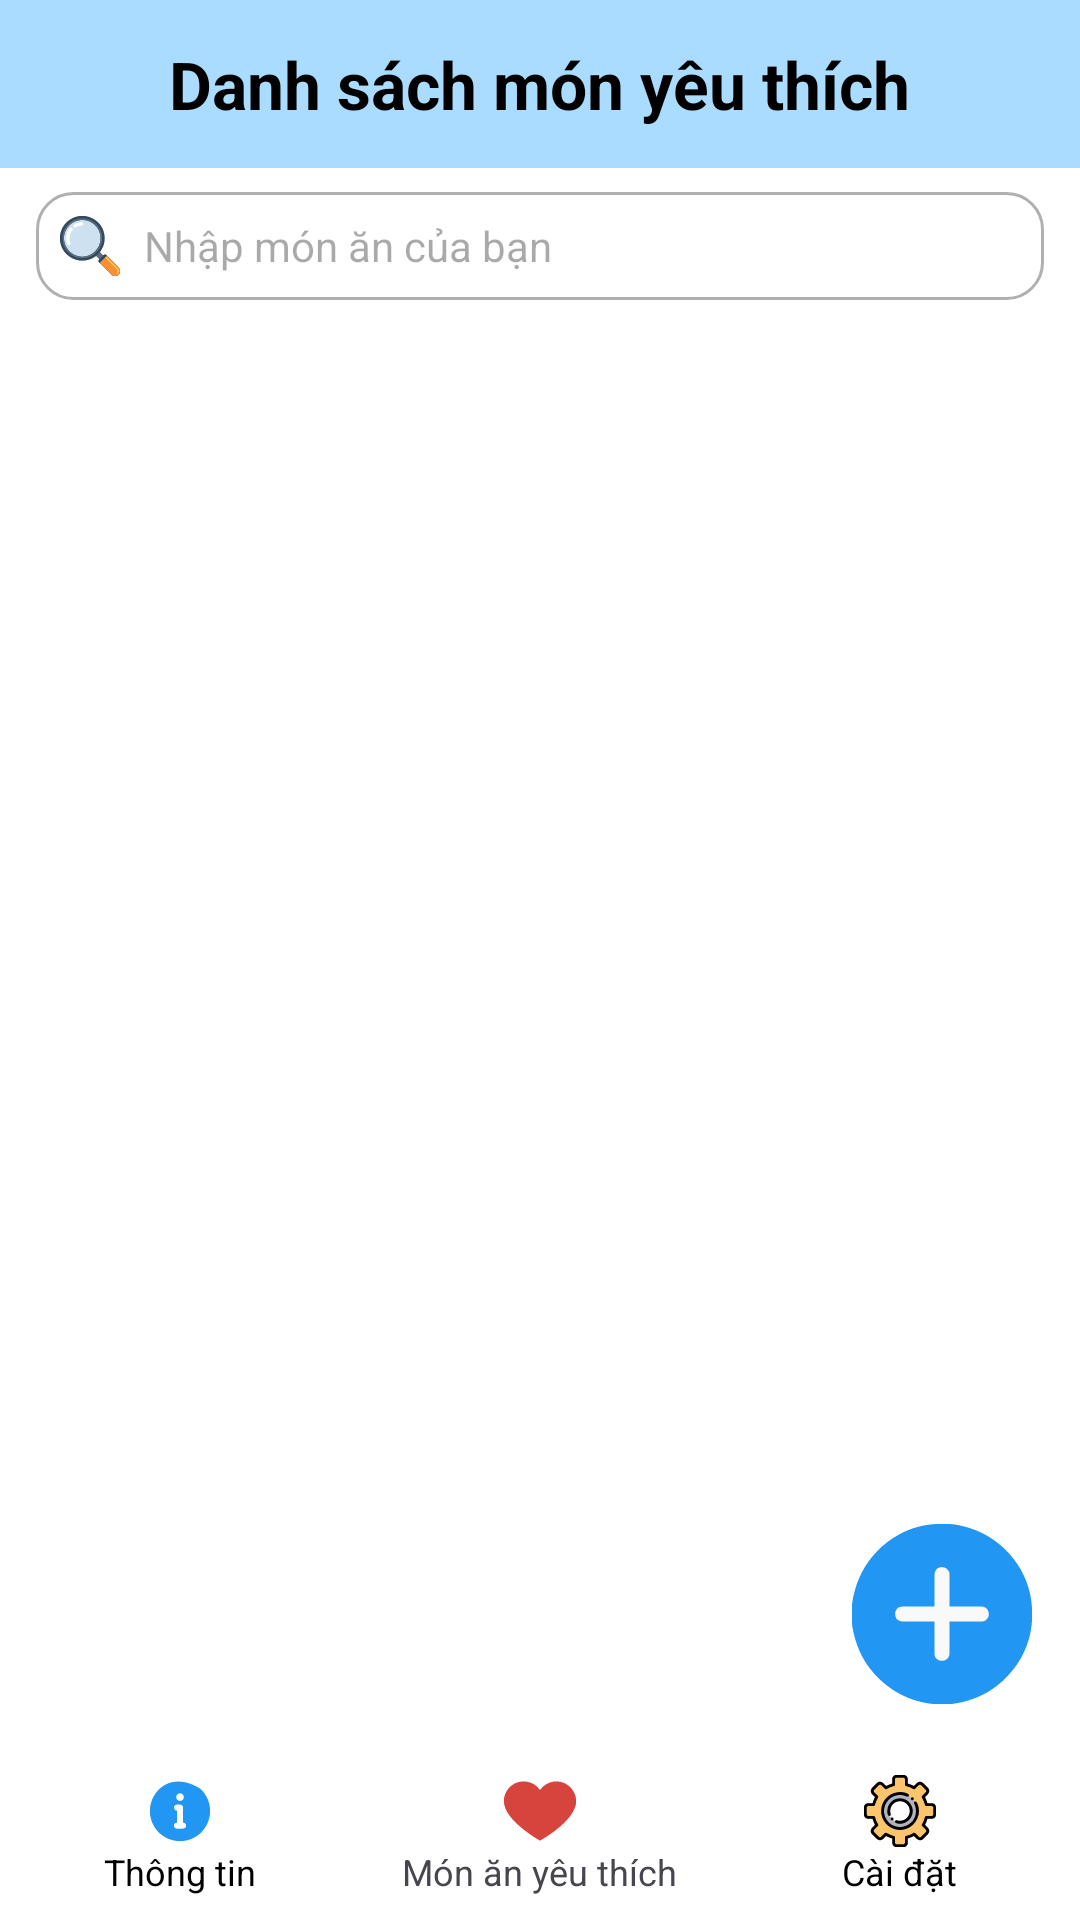

Named icons in this screenshot (1080×1920) and their bounding boxes, (x1, y1, x2, y2):
heart: (504, 1781, 576, 1841)
Tìm kiếm: (60, 216, 120, 276)
